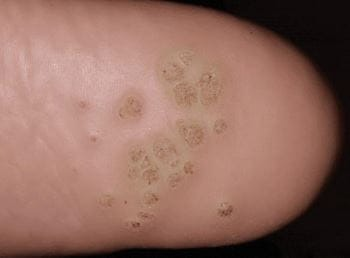Warts: (71, 34, 251, 240)
